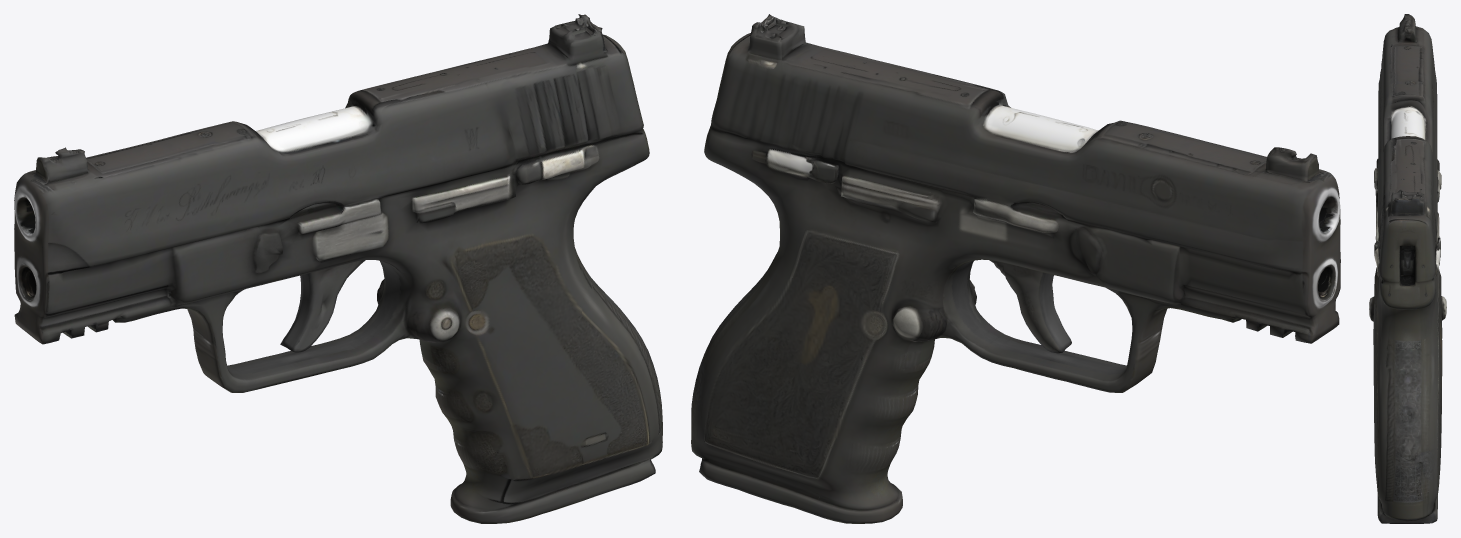
Rendered from pistol_Highly_Detail_0522155624_texture.fbx.
3 views of the same model, side by side, from view 1: azimuth 30°, elevation 25°; view 2: azimuth 150°, elevation 25°; view 3: azimuth 270°, elevation 25° (orthographic). The views are drawn at different scales.
Visible parts, largest first — view 1: input; view 2: input; view 3: input.
Part boxes in pixels (<box>): input: <box>14,14,662,523</box>; input: <box>691,14,1340,523</box>; input: <box>1369,14,1446,523</box>.
Size of the model in its own units: 199 by 139 by 30.6.
Materials: 1 (1 with a texture image).
